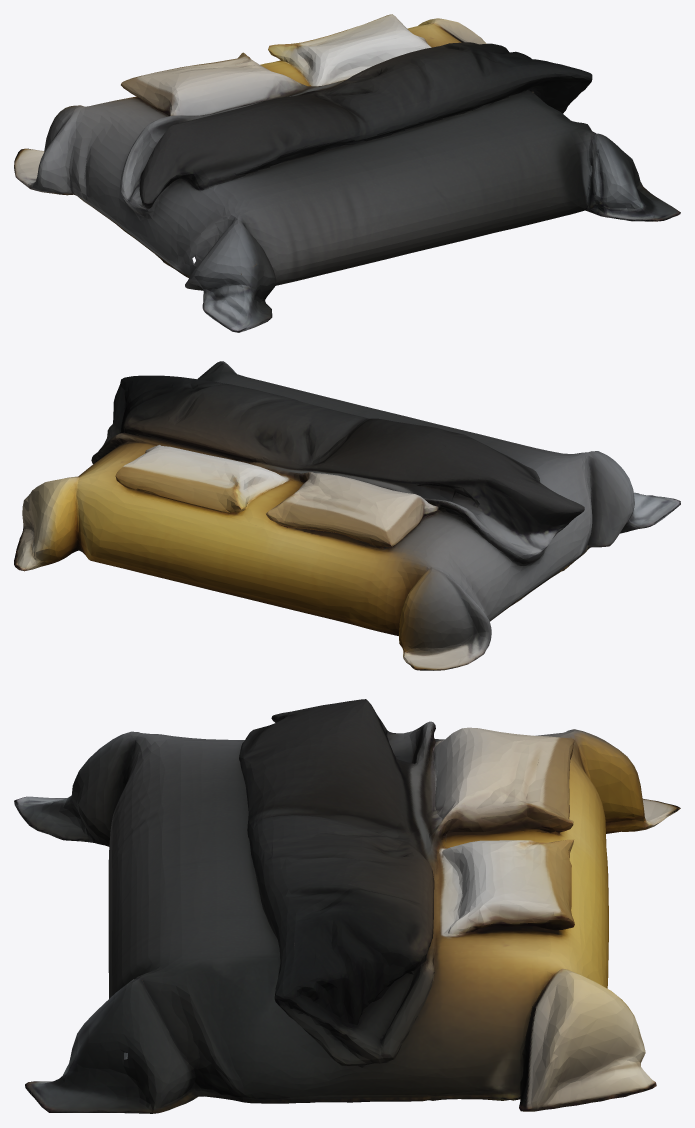
The model's file is gen_3411aff96245.glb.
3 views of the same model, one above another, from view 1: azimuth 30°, elevation 25°; view 2: azimuth 150°, elevation 25°; view 3: azimuth 270°, elevation 25° (orthographic). The views are drawn at different scales.
Visible parts, largest first — view 1: world; view 2: world; view 3: world.
Part boxes in pixels (bbox=[...]): world: bbox=[14, 14, 680, 332]; world: bbox=[14, 361, 680, 670]; world: bbox=[14, 699, 680, 1113].
Bounding box in the file's own units: 1 × 0.2333 × 0.8897.
Materials: 1 (1 with a texture image).
